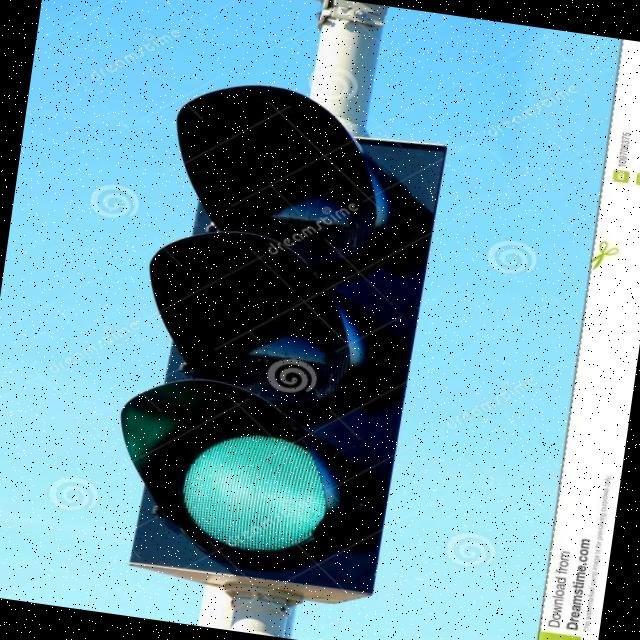Zielone swiatlo: (113, 83, 441, 594)
